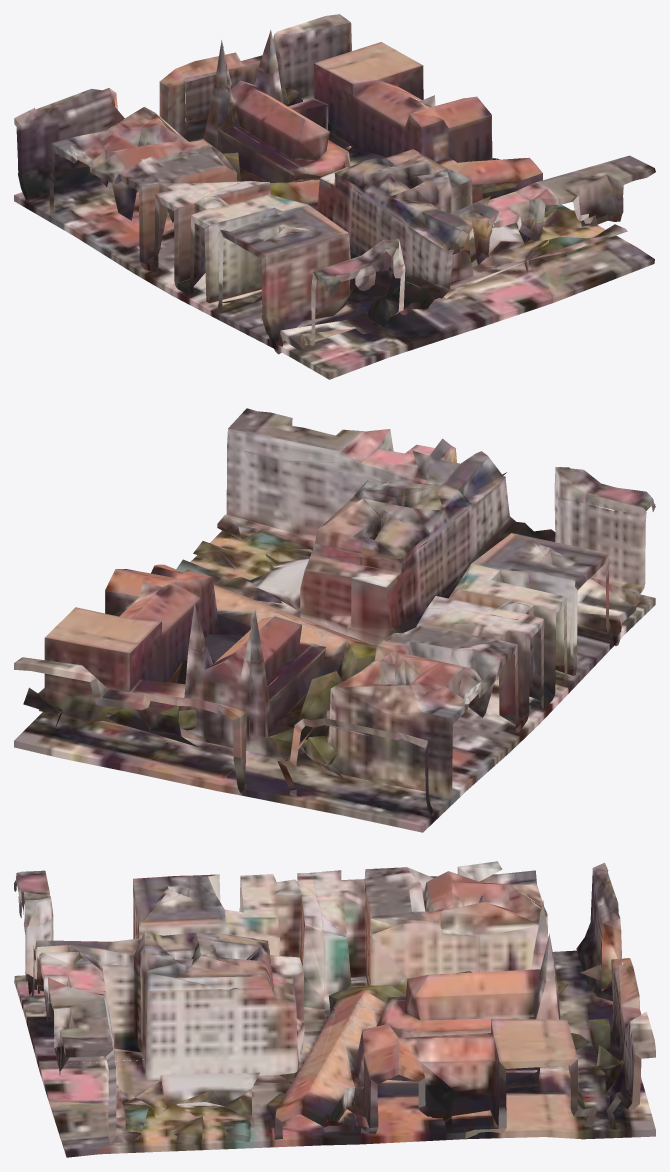
The picture shows the model from 3 angles, top to bottom: view 1: azimuth 30°, elevation 25°; view 2: azimuth 150°, elevation 25°; view 3: azimuth 270°, elevation 25°; orthographic projection. The views are drawn at different scales.
Visible parts, largest first — view 1: Mesh_0; view 2: Mesh_0; view 3: Mesh_0.
Part boxes in pixels (x1,y1,x2,y2): Mesh_0: [14, 14, 655, 379]; Mesh_0: [14, 408, 655, 832]; Mesh_0: [14, 861, 655, 1157].
Bounding box in the file's own units: 134 × 45.32 × 165.
1 material, 1 textured.
